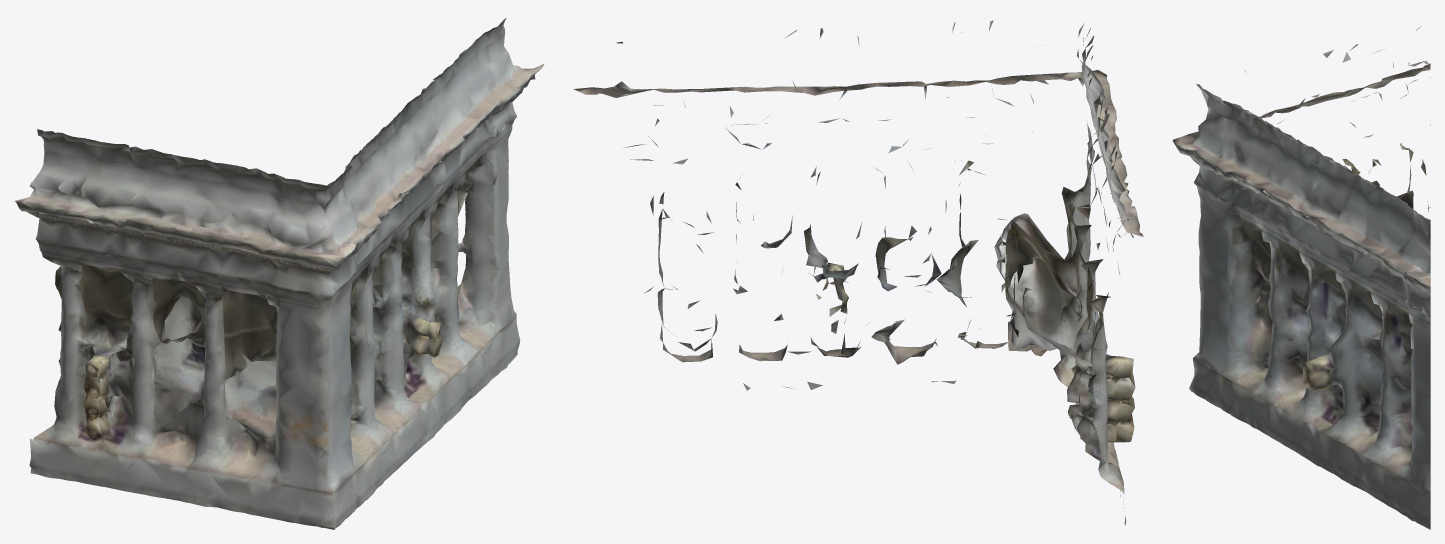
3 renders of one model, left to right at view 1: azimuth 30°, elevation 25°; view 2: azimuth 150°, elevation 25°; view 3: azimuth 270°, elevation 25°, orthographic. The views are drawn at different scales.
Bounding box in the file's own units: 12.65 × 7.81 × 5.97.
1 material, 1 textured.
